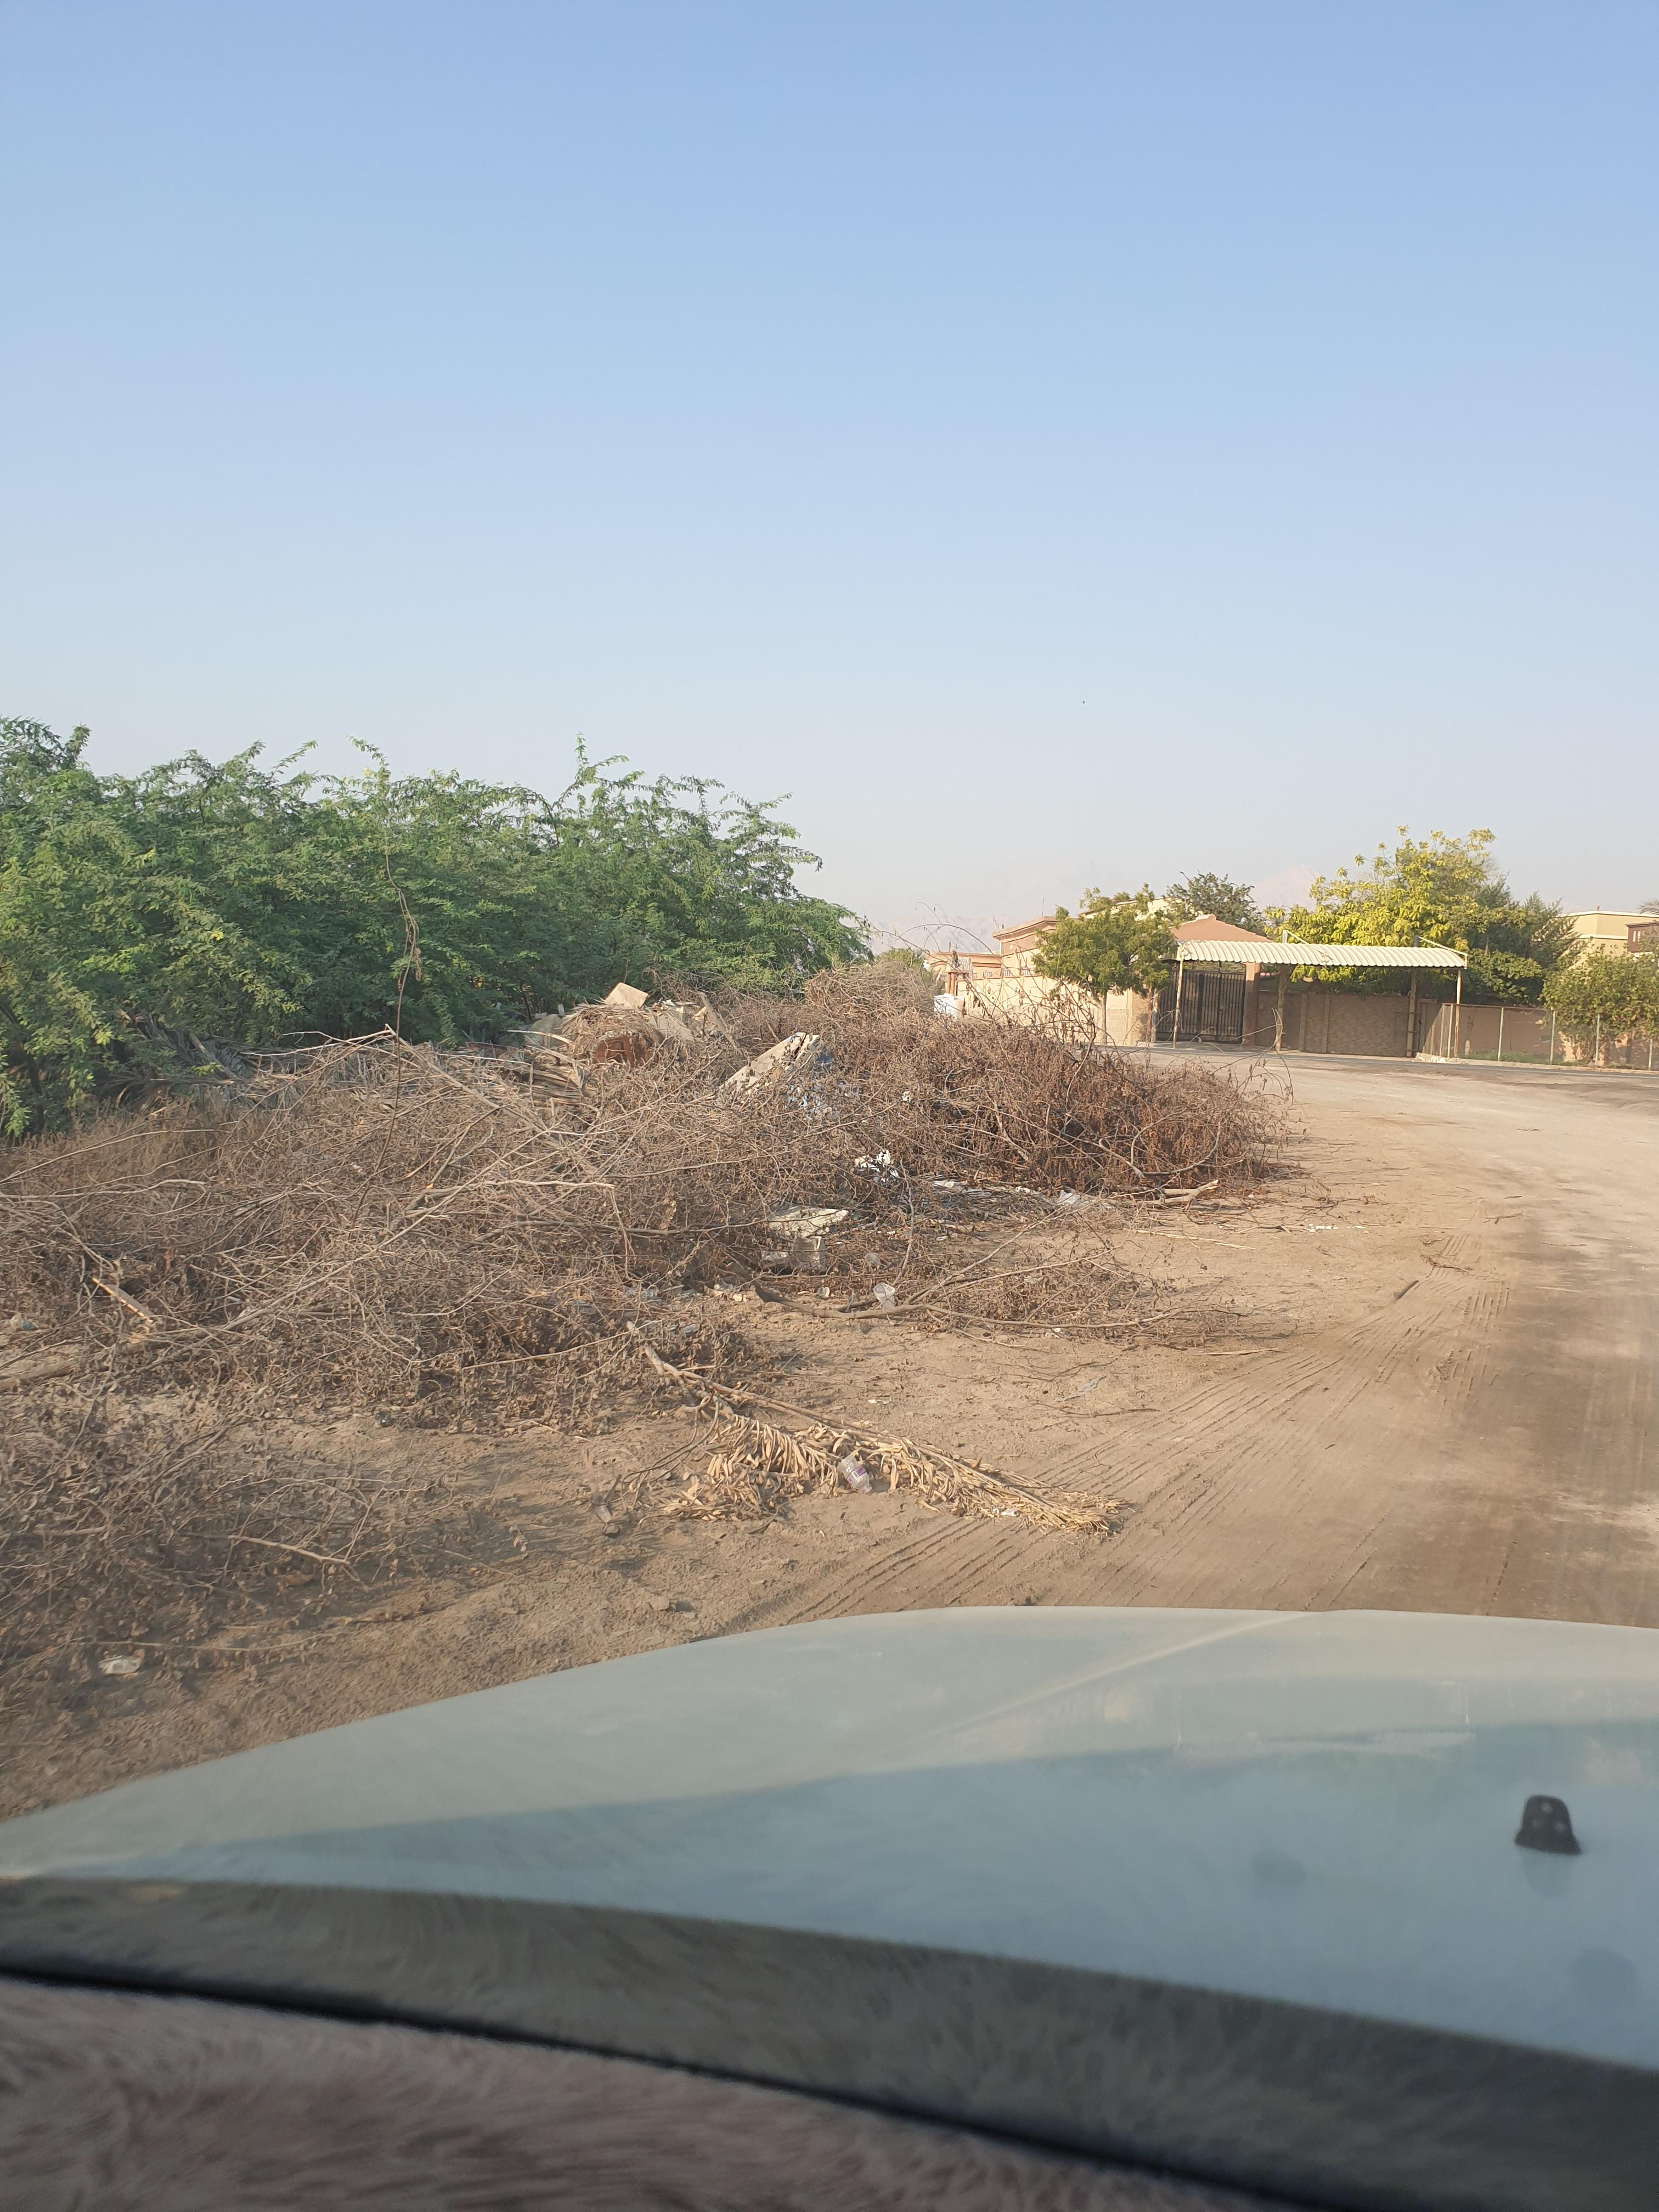fallen_trees: (612, 1325, 1187, 1555), (1046, 1080, 1396, 1299), (993, 1242, 1385, 1437)
